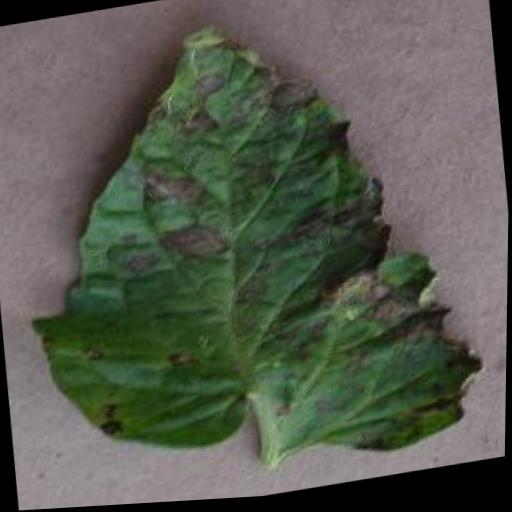Early Blight: (1, 0, 495, 510)
